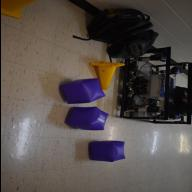cone: (88, 61, 124, 91), (0, 0, 37, 19)
cube: (58, 78, 104, 104), (64, 106, 108, 130), (88, 140, 124, 162)
